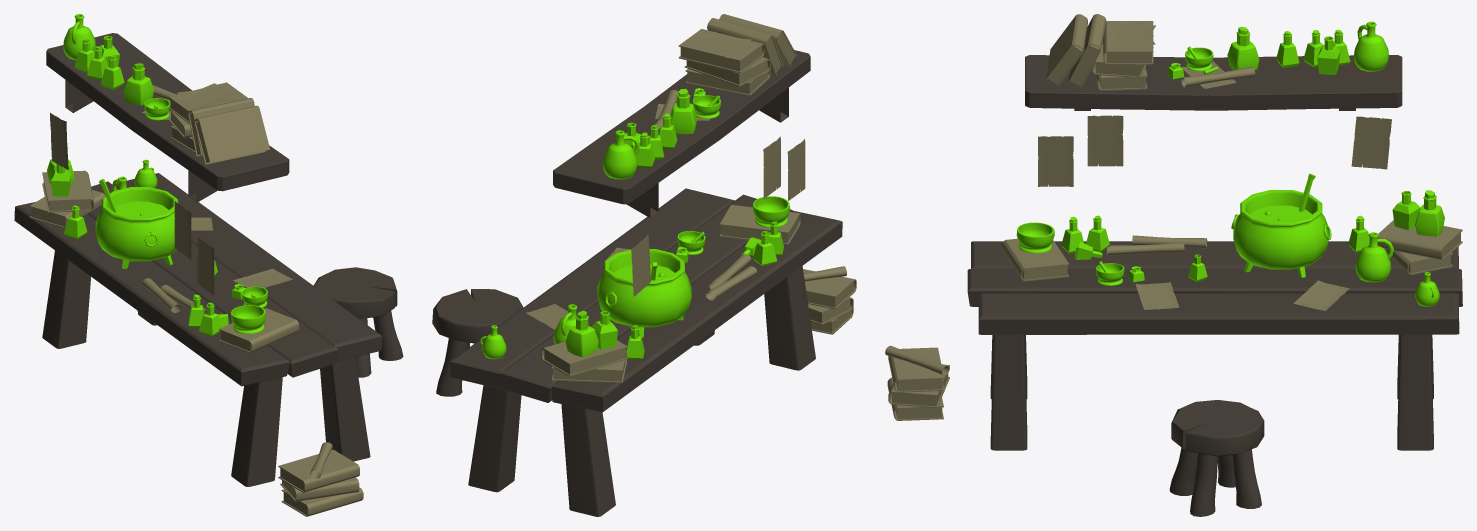
File: alchemy_table_1.fbx
3 renders of one model, left to right at view 1: azimuth 30°, elevation 25°; view 2: azimuth 150°, elevation 25°; view 3: azimuth 270°, elevation 25°, orthographic. The views are drawn at different scales.
Visible parts, largest first — view 1: pCube14, pCube43, polySurface120, polySurface92, pCube57, pCube61, pCube23, pCube64, pCube62, pCube60, pCube63, polySurface134 (+18 smaller); view 2: pCube14, pCube43, polySurface120, polySurface92, pCube64, pCube23, pCube58, pCube61, polySurface137, pCube56, pCube55, polySurface101 (+19 smaller); view 3: pCube14, pCube43, polySurface92, polySurface120, pCube64, pPlane4, pPlane5, pPlane3, pCube23, pCube61, pCube57, polySurface98 (+19 smaller).
Boxes of the visible parts, x1,y1,x2,y2 form: pCube14: (14, 173, 382, 486); pCube43: (46, 33, 289, 202); polySurface120: (95, 179, 178, 269); polySurface92: (313, 267, 403, 377); pCube57: (194, 105, 270, 164); pCube61: (278, 449, 359, 492); pCube23: (219, 308, 299, 352); pCube64: (42, 170, 94, 212); pCube62: (281, 487, 363, 516); pCube60: (280, 477, 359, 501); pCube63: (29, 190, 105, 227); polySurface134: (123, 63, 153, 105); pCube14: (450, 188, 842, 516); pCube43: (553, 50, 810, 217); polySurface120: (597, 249, 691, 337); polySurface92: (432, 289, 523, 396); pCube64: (541, 340, 627, 376); pCube23: (719, 204, 800, 244); pCube58: (678, 29, 764, 73); pCube61: (803, 269, 856, 309); polySurface137: (602, 130, 639, 179); pCube56: (707, 18, 783, 75); pCube55: (684, 57, 770, 86); polySurface101: (565, 310, 598, 356); pCube14: (967, 241, 1462, 450); pCube43: (1025, 55, 1402, 110); polySurface92: (1169, 400, 1264, 516); polySurface120: (1231, 173, 1331, 277); pCube64: (1377, 220, 1462, 260); pPlane4: (1087, 115, 1123, 166); pPlane5: (1351, 116, 1391, 169); pPlane3: (1038, 136, 1073, 186); pCube23: (1002, 238, 1069, 281); pCube61: (888, 347, 944, 392); pCube57: (1046, 14, 1087, 86); polySurface98: (1355, 232, 1393, 282).
Size of the model in its own units: 176 by 213 by 303.
